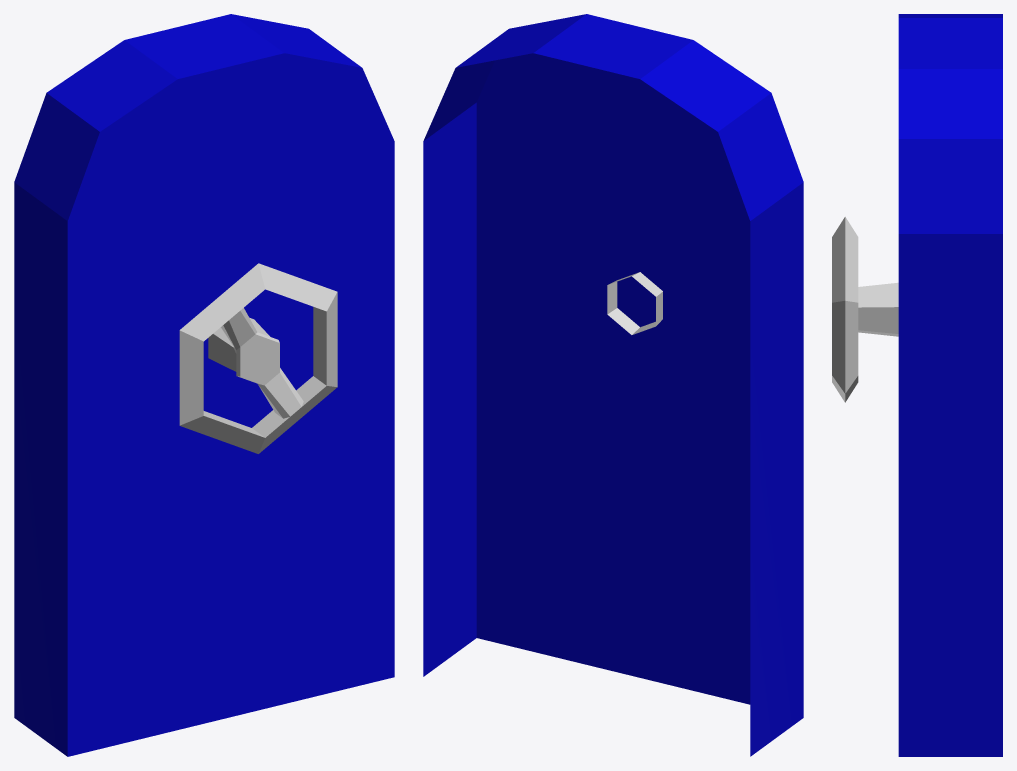
The model's file is Door.fbx.
The picture shows the model from 3 angles, left to right: view 1: azimuth 30°, elevation 25°; view 2: azimuth 150°, elevation 25°; view 3: azimuth 270°, elevation 25°; orthographic projection. The views are drawn at different scales.
Parts seen in each view (by area): view 1: Door; view 2: Door; view 3: Door.
Part boxes in pixels (x1,y1,x2,y2): Door: (14, 14, 394, 756); Door: (423, 14, 803, 756); Door: (832, 14, 1002, 756).
Bounding box in the file's own units: 166 × 316 × 77.11.
